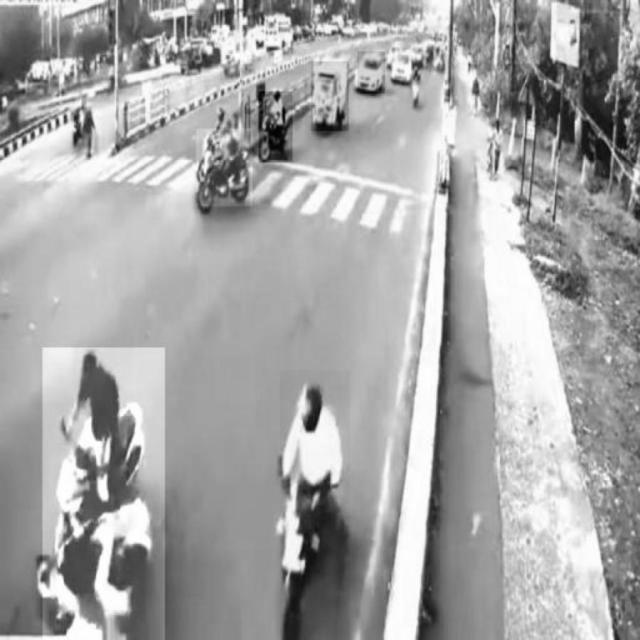accident: (43, 347, 165, 639)
vehicle: (280, 370, 350, 640), (197, 130, 253, 207), (312, 61, 349, 131), (259, 91, 293, 162), (357, 52, 385, 94)
